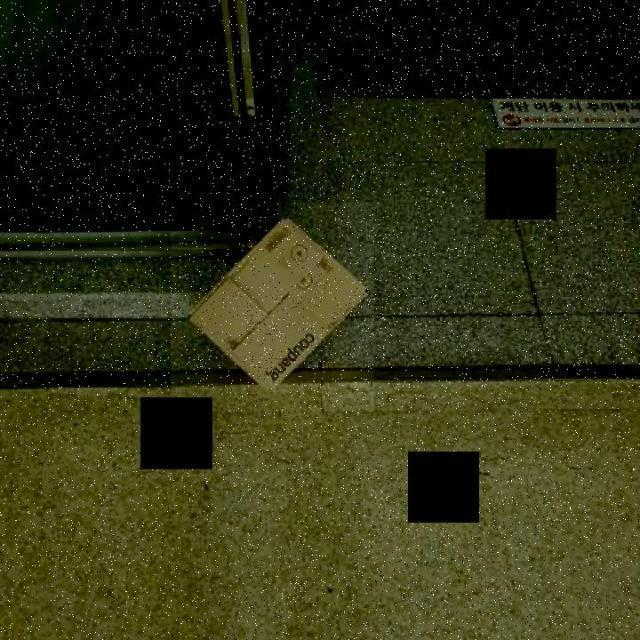box: (170, 202, 374, 412)
